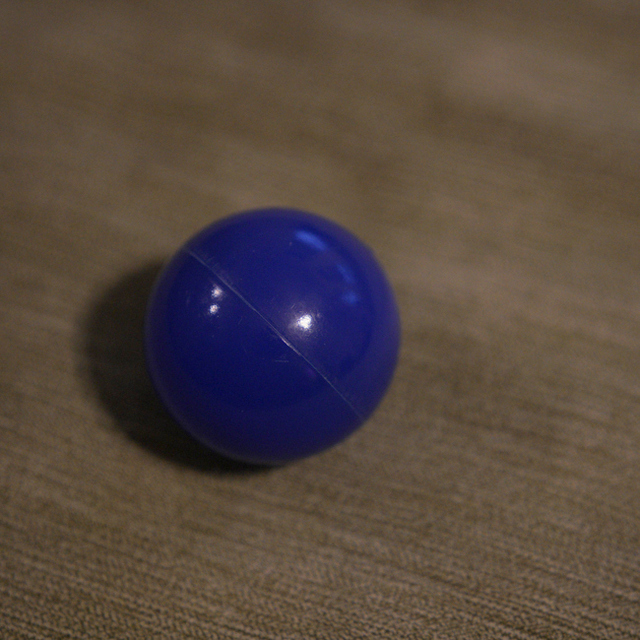Ball: (149, 207, 401, 463)
